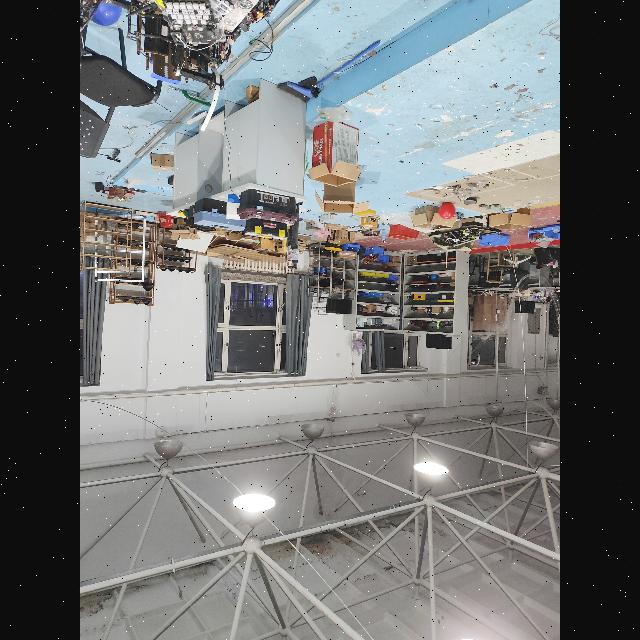B: (84, 0, 122, 26)
R: (438, 202, 456, 220)
